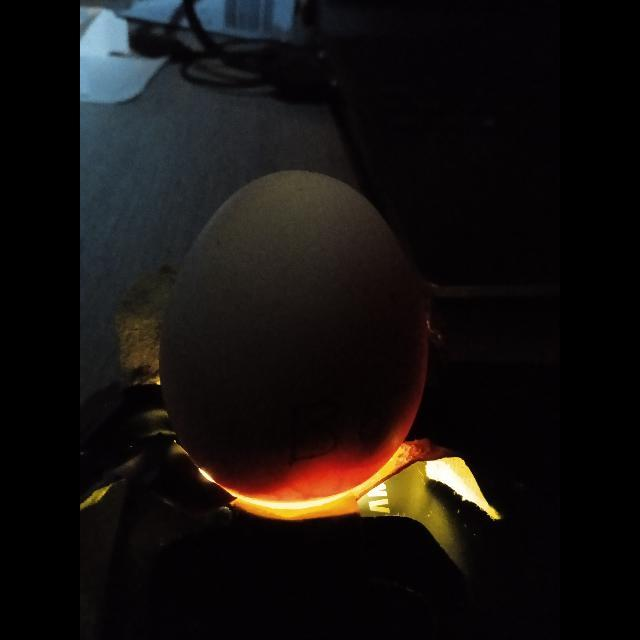Fertile: (163, 167, 424, 516)
